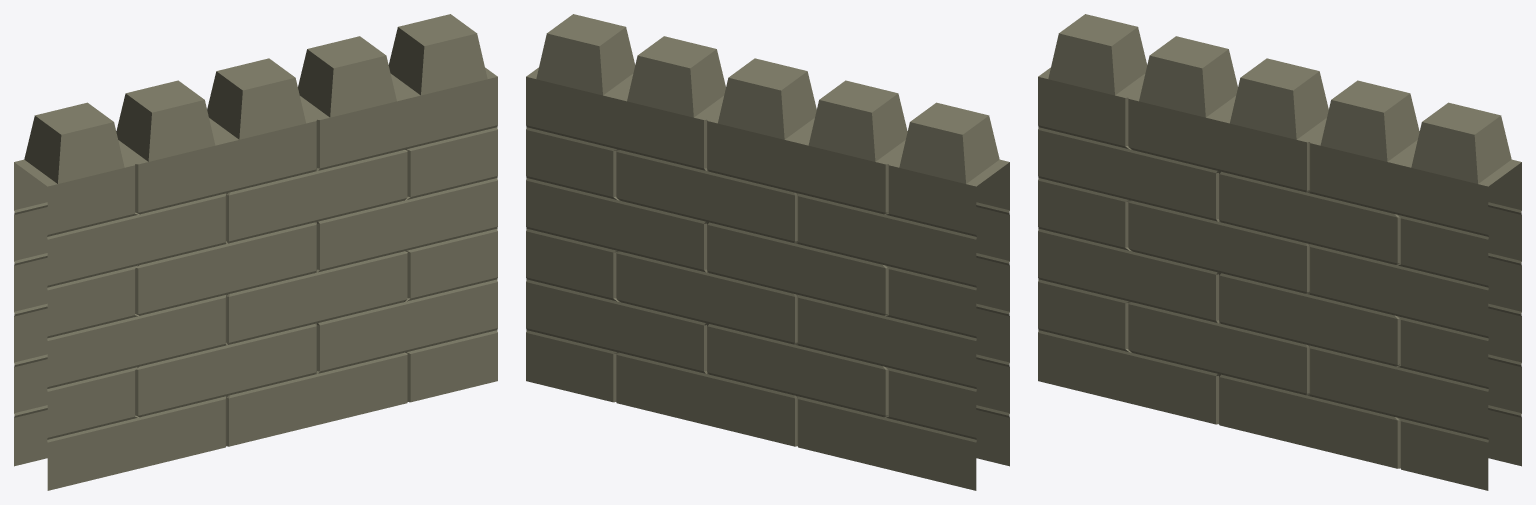
Rendered from Wall_mat.fbx.
3 renders of one model, left to right at view 1: azimuth 30°, elevation 25°; view 2: azimuth 150°, elevation 25°; view 3: azimuth 330°, elevation 25°, orthographic.
Visible parts, largest first — view 1: Wall_mat; view 2: Wall_mat; view 3: Wall_mat.
Boxes of the visible parts, bbox=[...] form: Wall_mat: bbox=[14, 14, 497, 490]; Wall_mat: bbox=[526, 14, 1009, 490]; Wall_mat: bbox=[1038, 14, 1521, 490].
Bounding box in the file's own units: 411 × 305 × 53.08.
